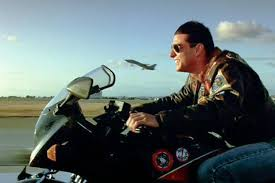motorcycle: (18, 61, 275, 183)
